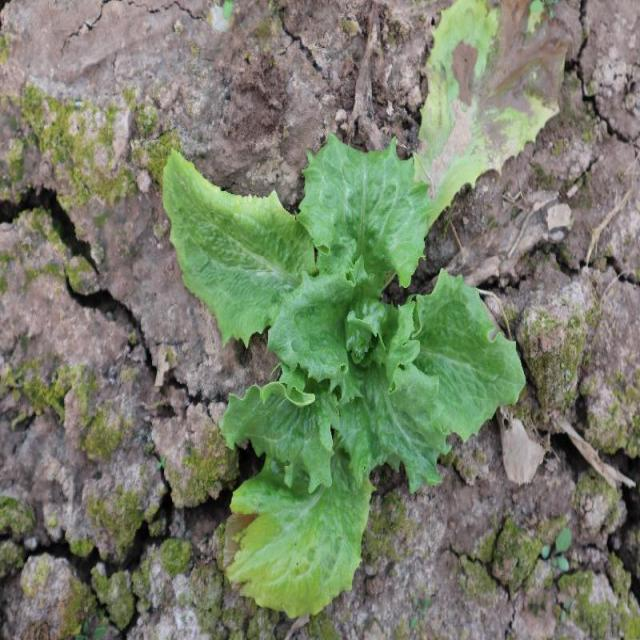crop: (160, 134, 527, 621)
